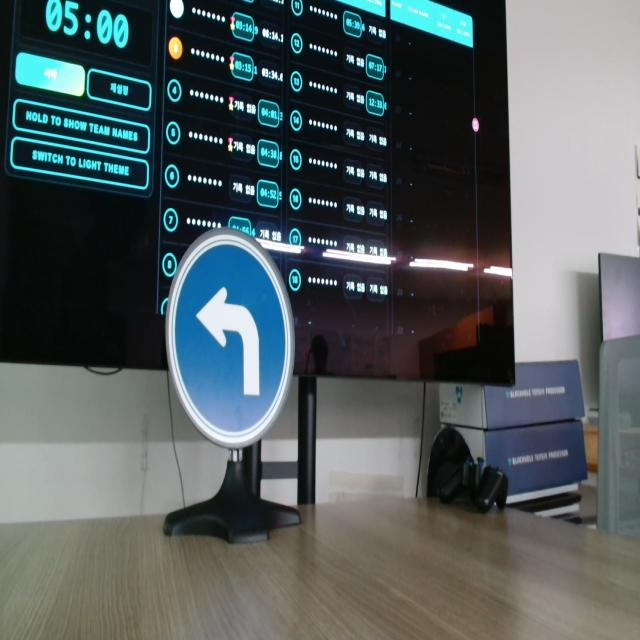left_direction: (162, 220, 298, 460)
